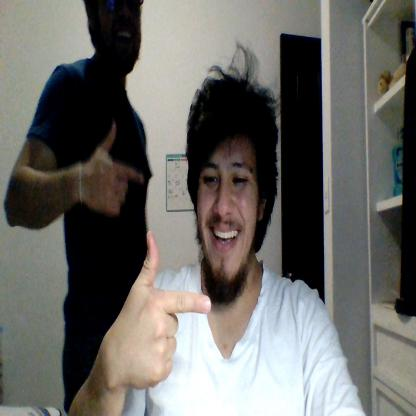G: (119, 229, 211, 390), (88, 120, 145, 213)
